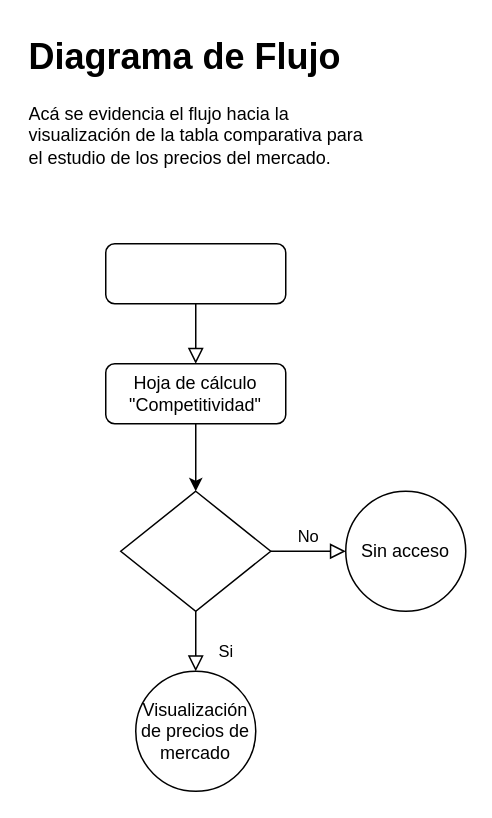
The diagram is 492 pixels wide and 818 high, and some of its shapes have lost their labels. Each missing label, with the centre of its shape:
"Google Drive" belongs at point 195,273.
"¿Hoja compartida?" belongs at point 195,550.
